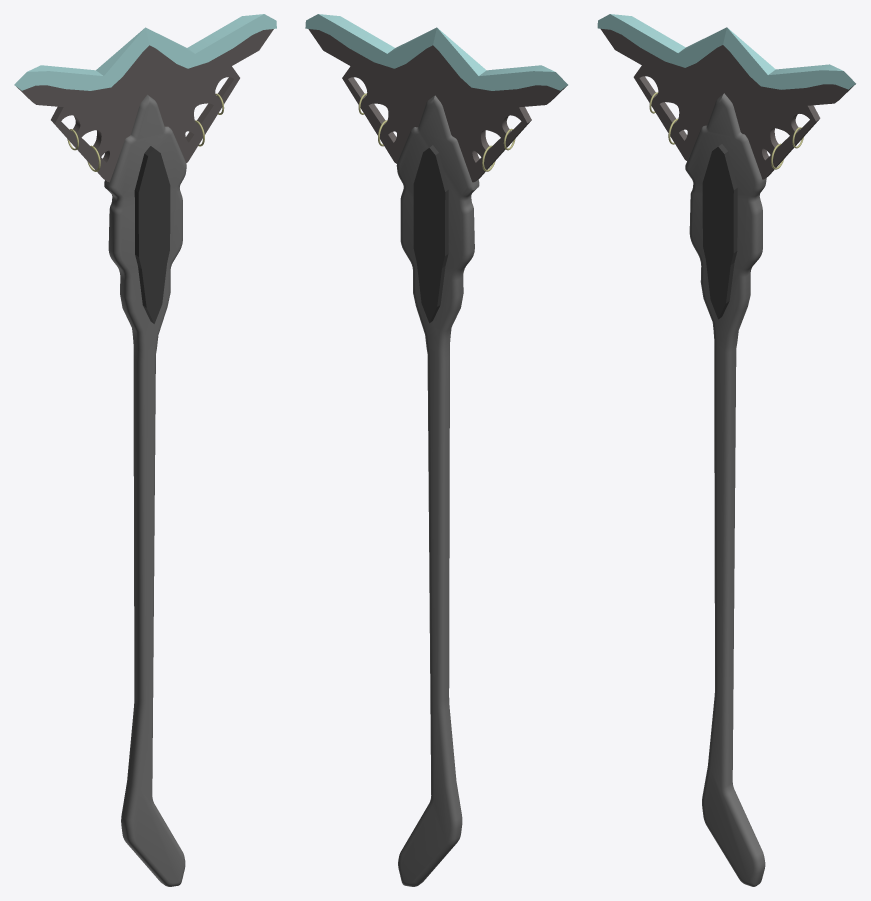
File: weapon_f.gltf
3 renders of one model, left to right at view 1: azimuth 30°, elevation 25°; view 2: azimuth 150°, elevation 25°; view 3: azimuth 330°, elevation 25°, orthographic.
Visible parts, largest first — view 1: Weapon1.001; view 2: Weapon1.001; view 3: Weapon1.001.
Boxes of the visible parts, left/top/right/bottom form: Weapon1.001: left=14, top=14, right=276, bottom=886; Weapon1.001: left=305, top=14, right=567, bottom=886; Weapon1.001: left=597, top=14, right=855, bottom=886.
Size of the model in its own units: 1.53 by 4.81 by 0.1666.
